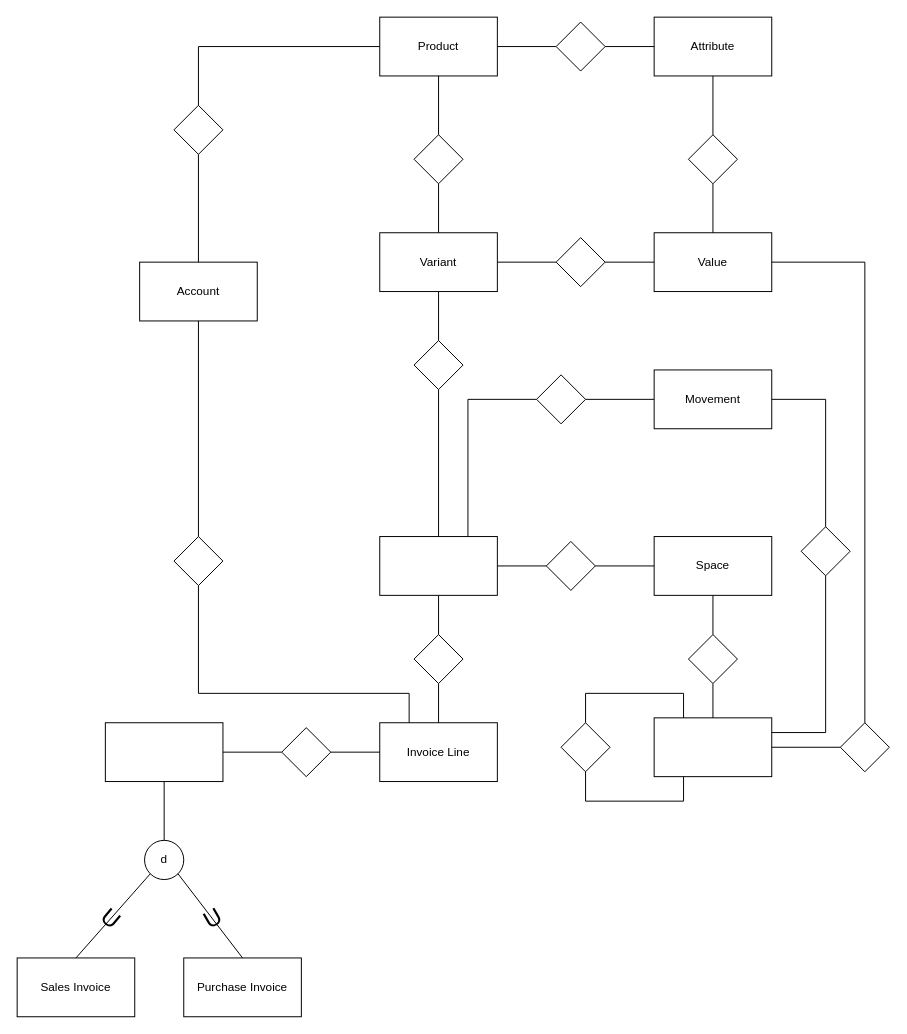
Image size: 907x1034. Some labels were removed from this diagram. Each missing label, with the centre of its shape:
Dimension: point (712, 747)
Invoice: point (163, 752)
SKU: point (438, 565)
